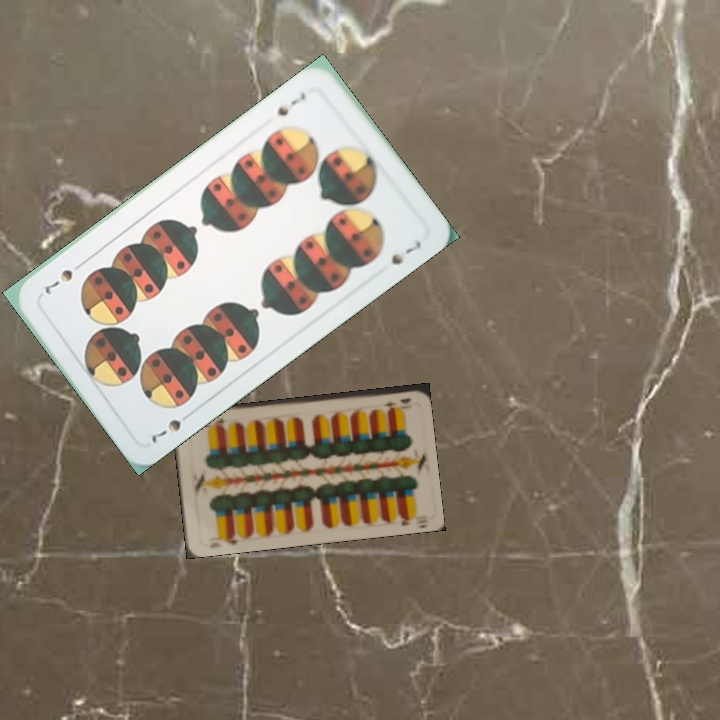E10: (379, 394, 414, 409), (218, 529, 240, 548)
S7: (147, 407, 196, 447), (272, 88, 309, 119)
